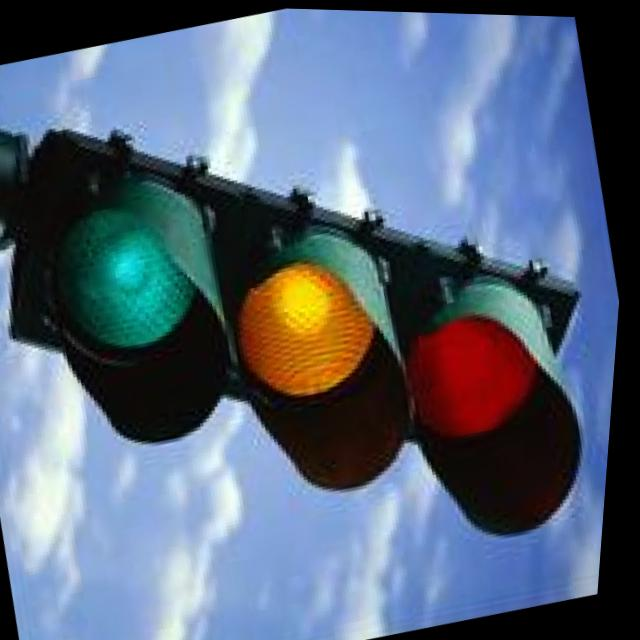green_light: (0, 143, 269, 480)
red_light: (359, 195, 629, 553)
yellow_light: (164, 217, 469, 532)
